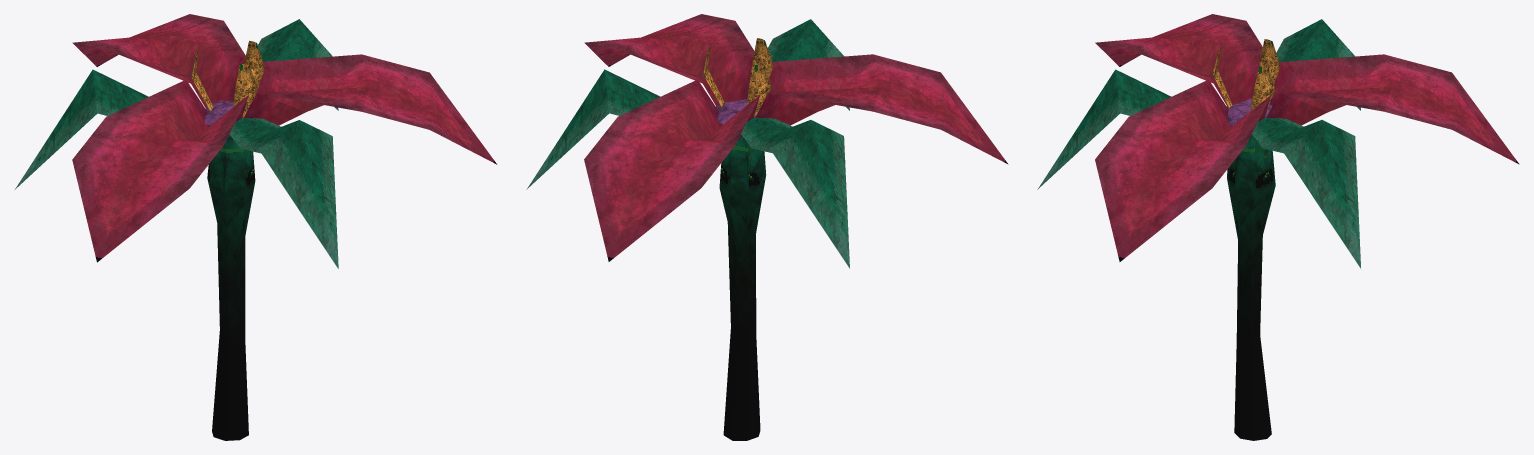
Rendered from flowerWithWeights.glb.
3 renders of one model, left to right at view 1: azimuth 30°, elevation 25°; view 2: azimuth 150°, elevation 25°; view 3: azimuth 270°, elevation 25°, orthographic.
Parts seen in each view (by area): view 1: FLWR_01; view 2: FLWR_01; view 3: FLWR_01.
Part boxes in pixels (x1=…): FLWR_01: x1=15, y1=14, x2=497, y2=440; FLWR_01: x1=526, y1=14, x2=1008, y2=440; FLWR_01: x1=1037, y1=14, x2=1519, y2=440.
Bounding box in the file's own units: 0.7731 × 0.7087 × 0.8078.
1 material, 1 textured.
